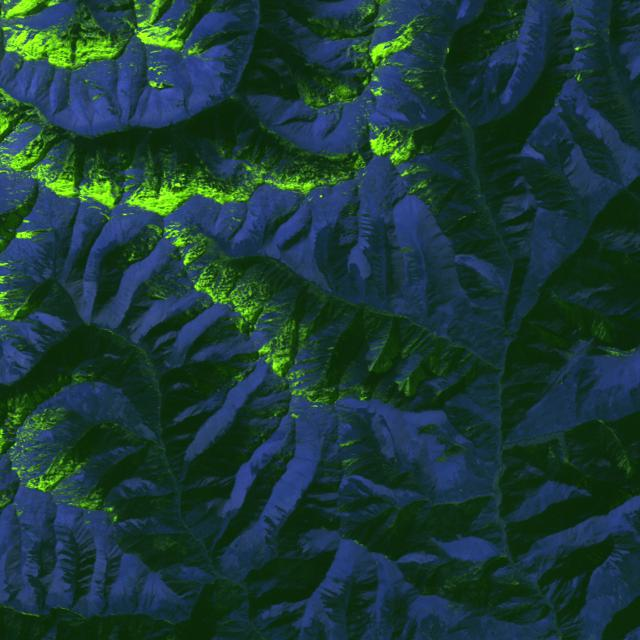landslides: (405, 328, 424, 353), (411, 333, 430, 353), (442, 349, 456, 374), (183, 367, 197, 387), (614, 586, 623, 615), (458, 352, 471, 367), (465, 421, 484, 431), (474, 303, 498, 310), (616, 488, 631, 497), (481, 398, 500, 405)
